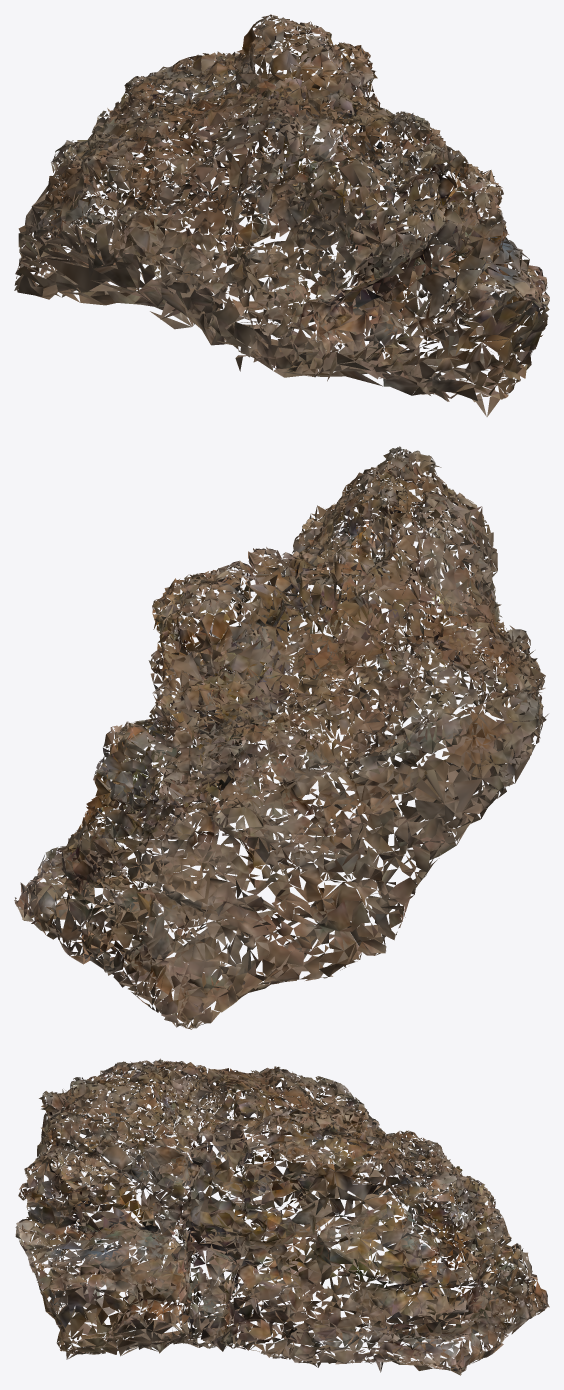
The model's file is boulder_01.glb.
3 views of the same model, one above another, from view 1: azimuth 30°, elevation 25°; view 2: azimuth 150°, elevation 25°; view 3: azimuth 270°, elevation 25° (orthographic). The views are drawn at different scales.
Parts seen in each view (by area): view 1: boulder_01; view 2: boulder_01; view 3: boulder_01.
Boxes of the visible parts, x1,y1,x2,y2 form: boulder_01: [14, 14, 549, 416]; boulder_01: [14, 446, 548, 1029]; boulder_01: [15, 1058, 549, 1375].
Size of the model in its own units: 1.28 by 1.01 by 1.84.
Materials: 1 (1 with a texture image).
